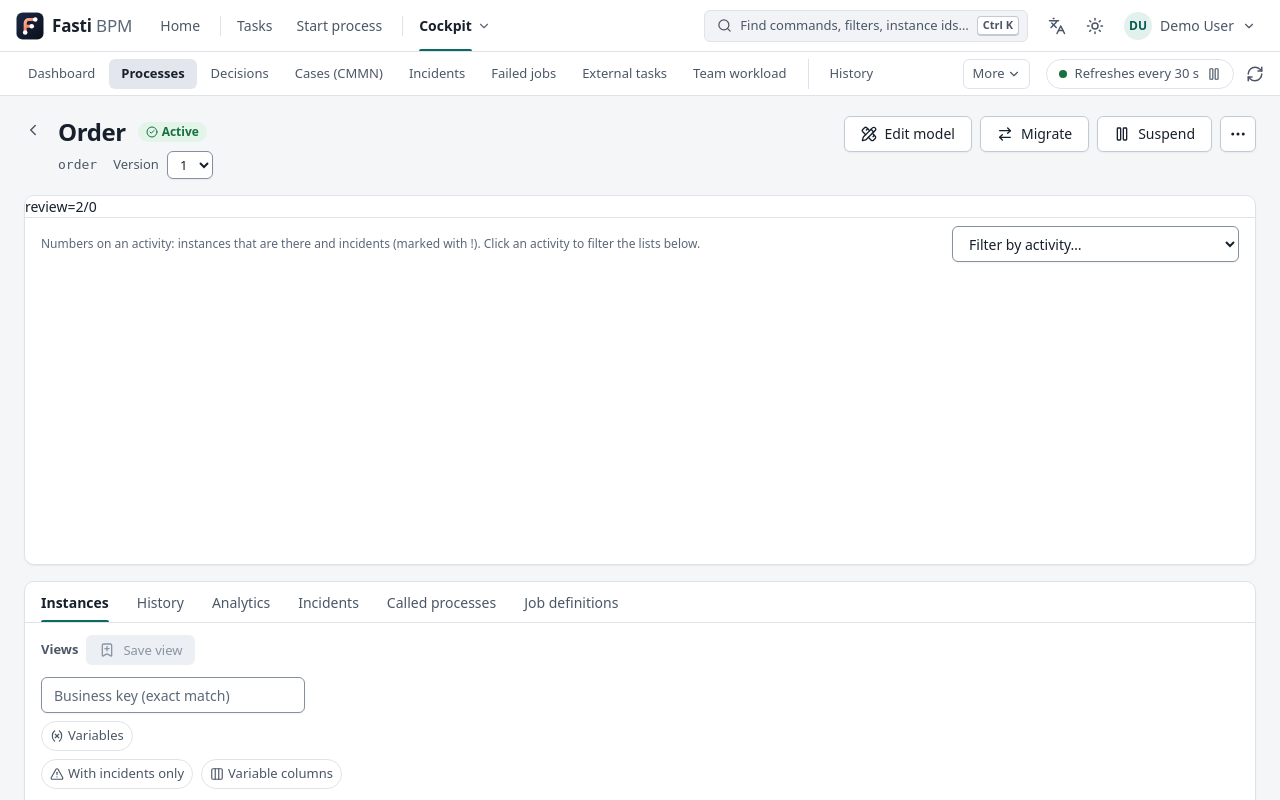
Test case: bulk operations › does not let the rows of the old filter be picked while the new ones load
The width and height of the screenshot is (1280, 800).
Click the button "With incidents only".
click(117, 774)  # box [41,759,193,789]
(page scrolled)
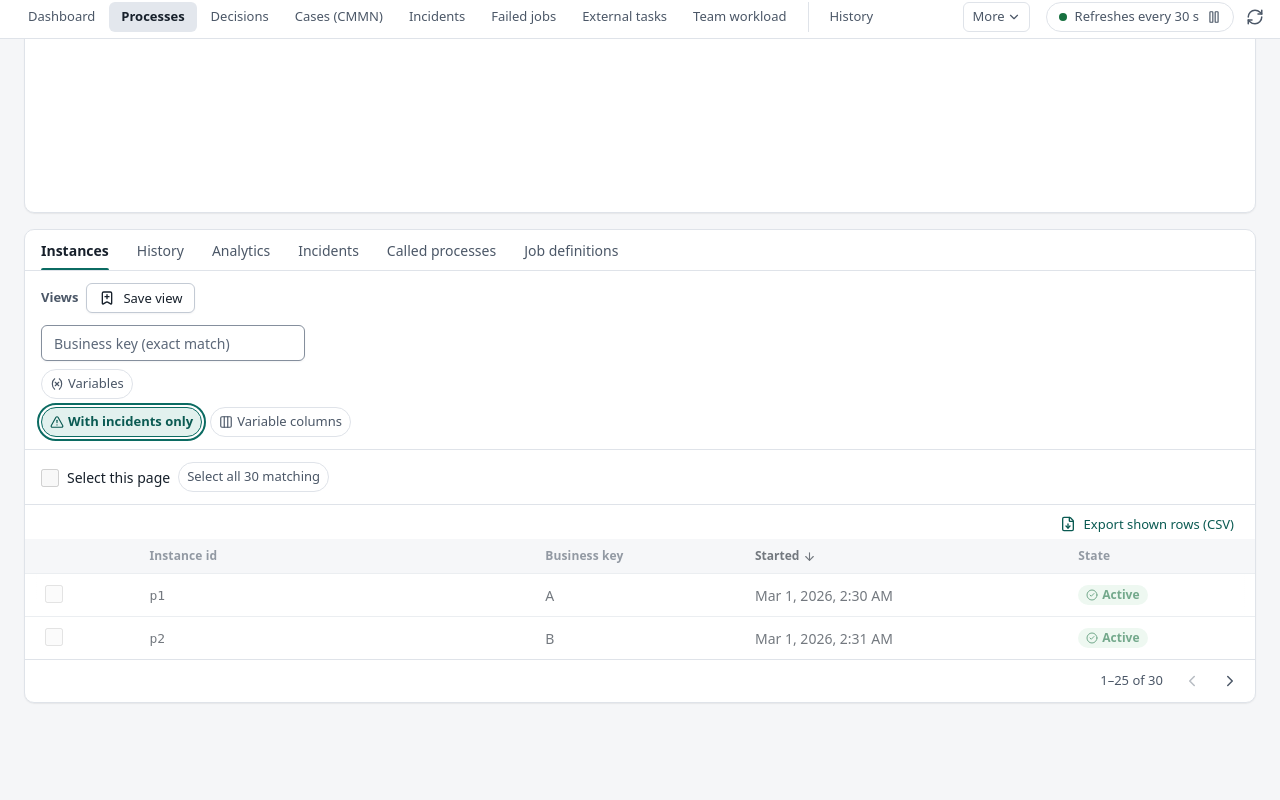
Now the checkbox named "Select instance p1" is disabled, box [45,585,63,603]
